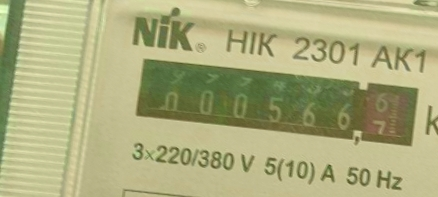0: (230, 88, 251, 118), (196, 83, 216, 114), (160, 84, 182, 109)
5: (265, 91, 286, 122)
6: (333, 96, 355, 129), (297, 96, 319, 125), (373, 87, 392, 114)
7: (370, 115, 388, 135)
9: (167, 63, 187, 85)
screen: (126, 47, 425, 153)
